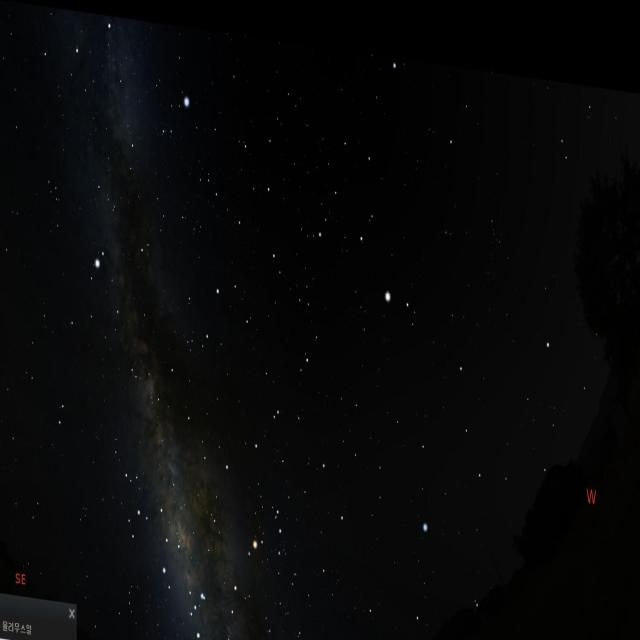aquila: (49, 171, 158, 391)
bootes: (332, 104, 425, 330)
lyra: (154, 84, 192, 142)
sagittarius: (102, 459, 186, 598)
scorpius: (189, 472, 292, 640)
